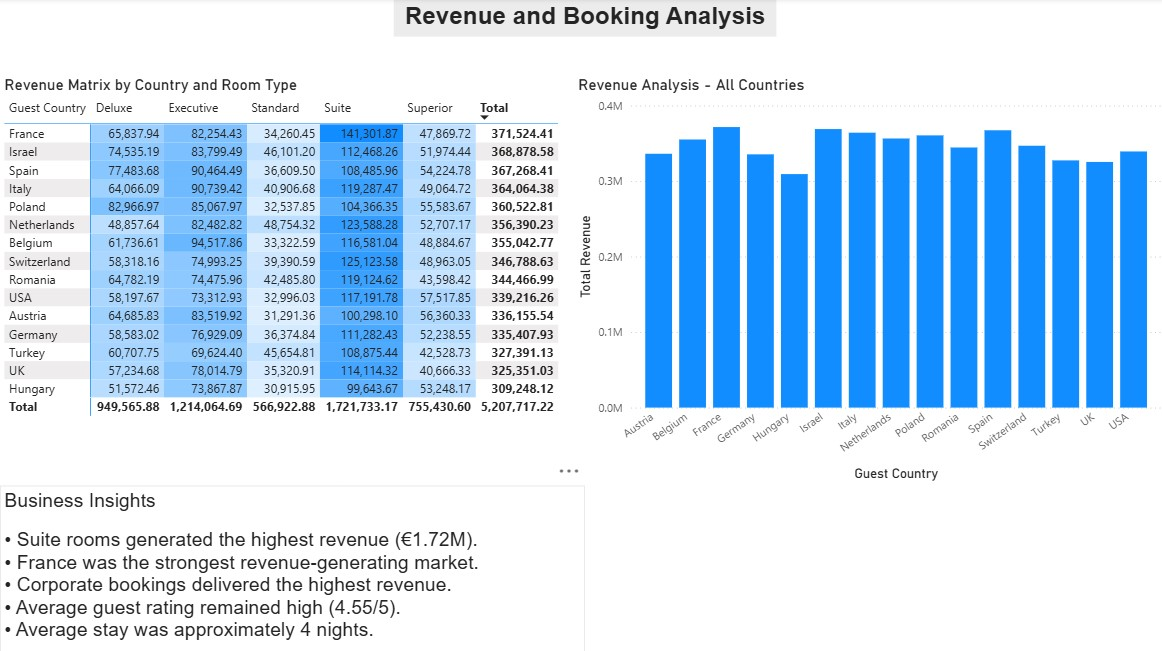

What the dashboard file says about the page in this screenshot:
{"tool":"powerbi","page":{"name":"Booking Analysis","canvas":[1280,720],"ordinal":1},"visuals":[{"type":"pivotTable","title":"Revenue Matrix by Country and Room Type","fields":{"Rows":["Bookings.Guest Country"],"Columns":["Bookings.Room Type"],"Values":["Bookings.Total Revenue"]},"box":[0,85.2,630.5,450.6],"z":0},{"type":"clusteredColumnChart","fields":{"Category":["Bookings.Guest Country","Bookings.Booking Channel"],"Y":["Bookings.Total Revenue"]},"box":[630.5,85.2,649.8,450.6],"z":1},{"type":"textbox","box":[0,535.7,641.5,184.1],"z":2},{"type":"textbox","box":[432.7,0,420.3,42.6],"z":3}]}

Visuals, with their boxes in screenshot pixels (x1, y1, x2, y2), scaled from the page's 1280x720 canvas onto the 1162x651 screenshot:
"Revenue Matrix by Country and Room Type" pivotTable: bbox(0, 77, 572, 484)
clusteredColumnChart - Bookings.Guest Country x Bookings.Booking Channel: bbox(572, 77, 1161, 484)
textbox: bbox(0, 484, 582, 650)
textbox: bbox(393, 0, 774, 39)
